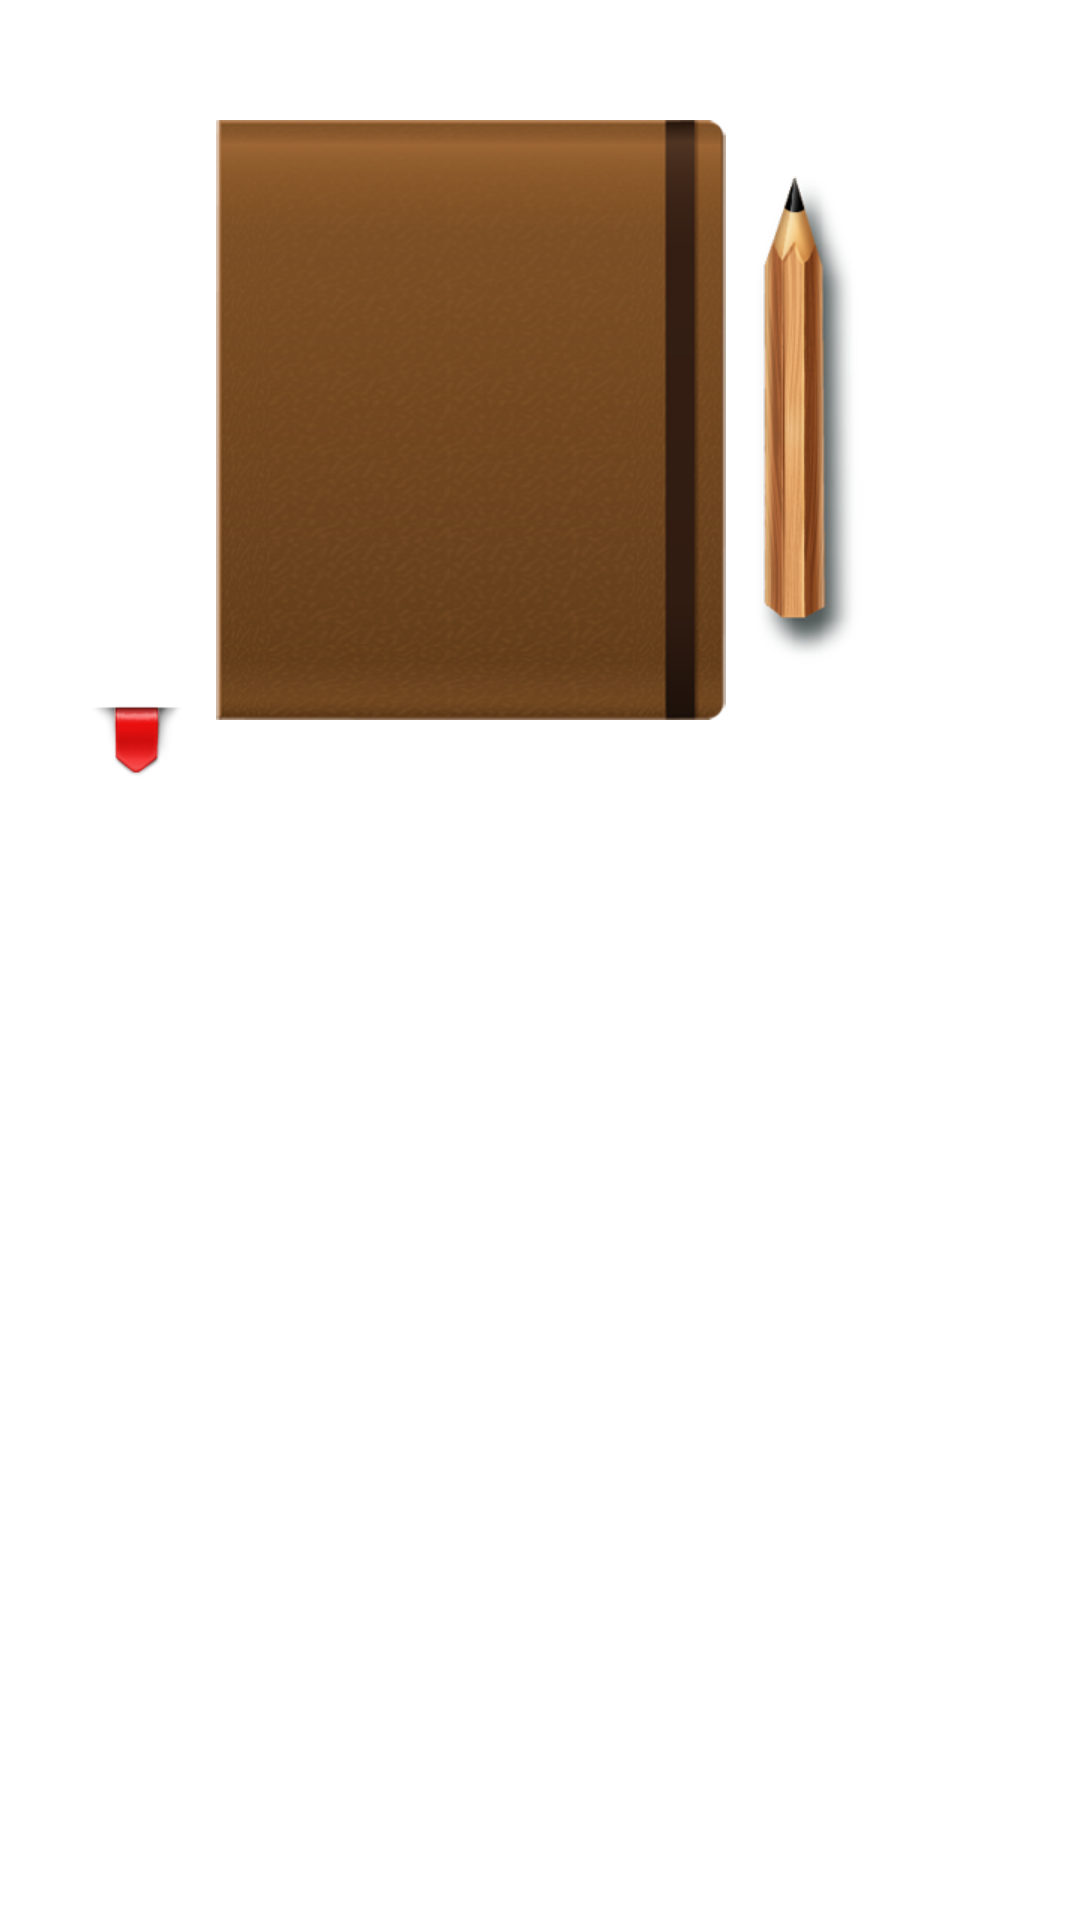

Icon bounding boxes for this 1080×1920 phone screenshot, format detection(x1, y1, x2, y2):
reading sticker: detection(99, 707, 176, 774)
